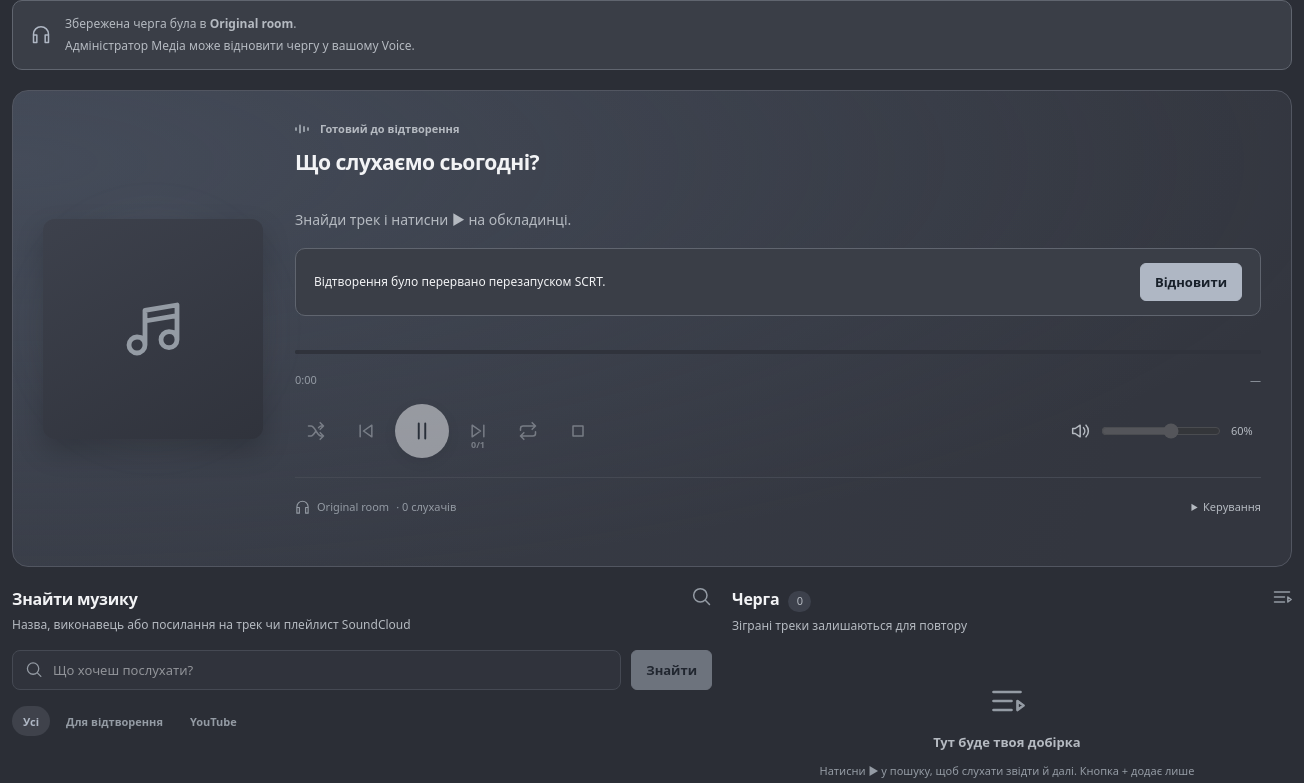
Test: Media catalog search feedback › allows recovery after joining Voice even when the displayed permission snapshot is stale
Click the button "Відновити": (1191, 282) [1140, 263, 1242, 301]
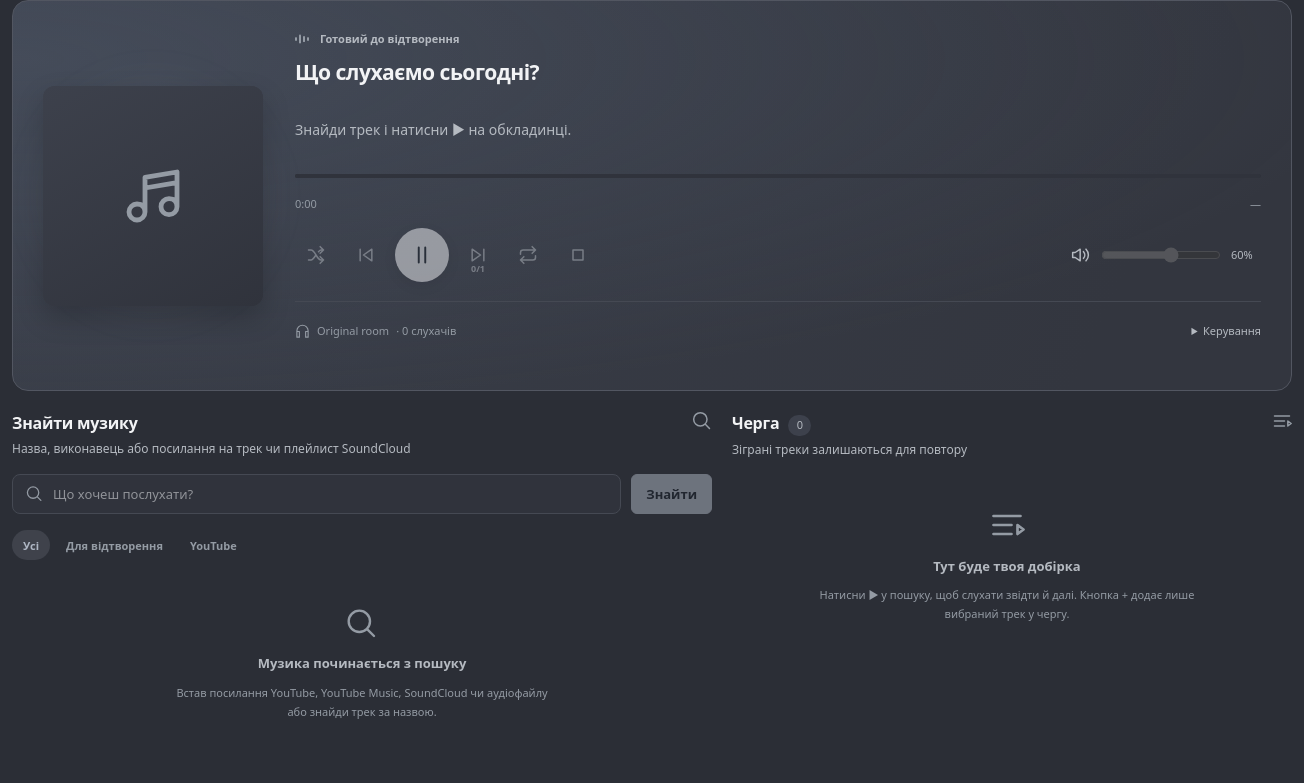
Expected: the text "відновити" is gone
